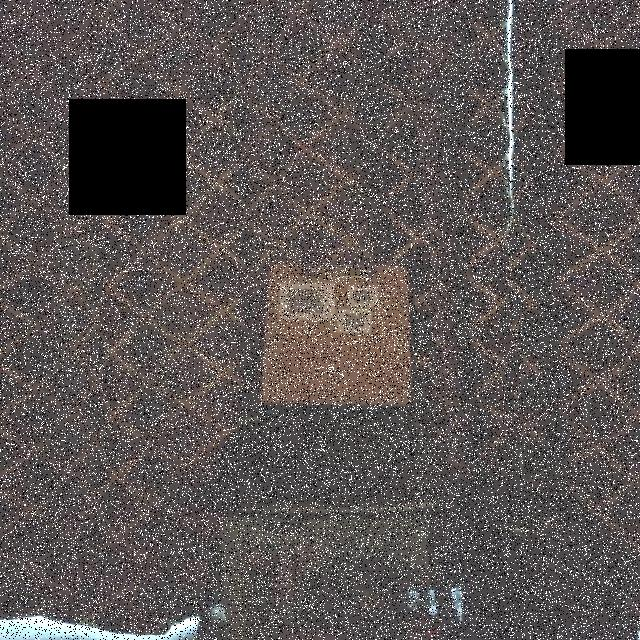QR_CODE: (279, 281, 329, 320), (345, 282, 381, 306), (340, 310, 374, 335)
